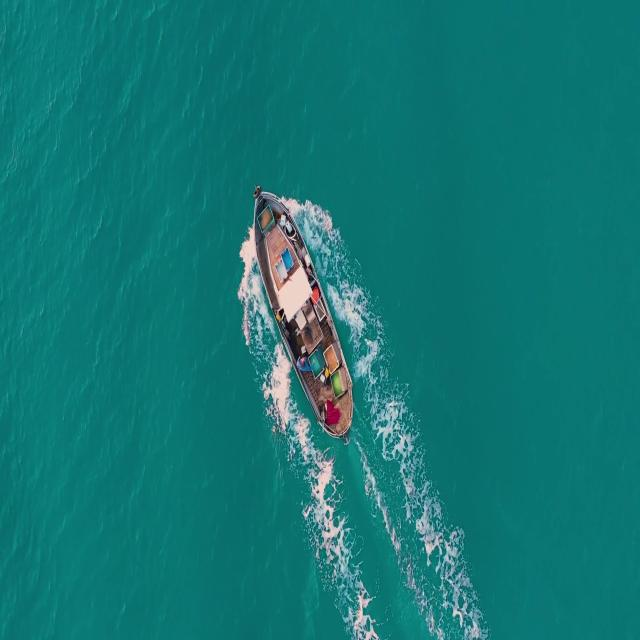ship: (250, 186, 356, 446)
